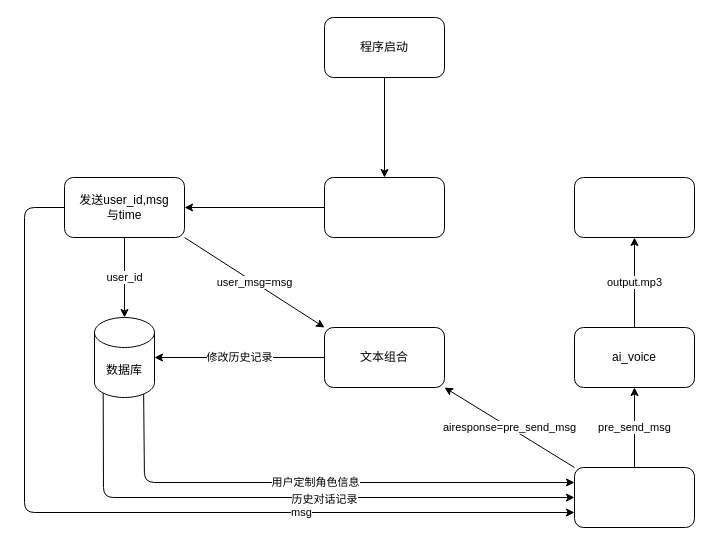
Image size: 712x545. Some labels were removed from this diagram. The shapes that lost their labels are listed below. From the top down, each one's centre as x and y in pixels, then its label:
At pixel 384 207: "消息监听".
At pixel 634 207: "send_friend_audio".
At pixel 634 497: "LLM".
